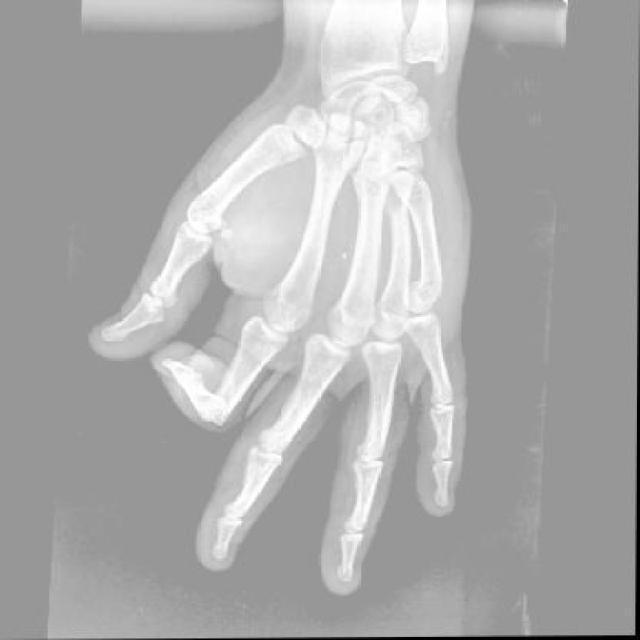Fracture: (409, 274, 442, 308)
